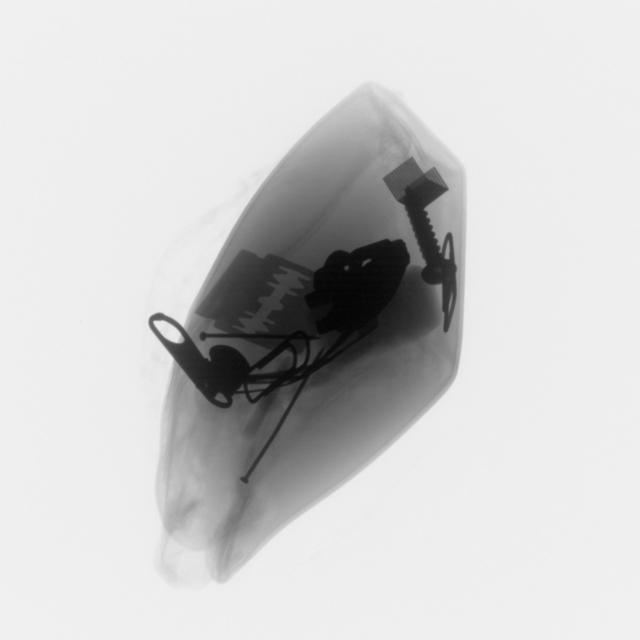razor: (194, 241, 342, 347)
snail: (230, 360, 318, 490)
